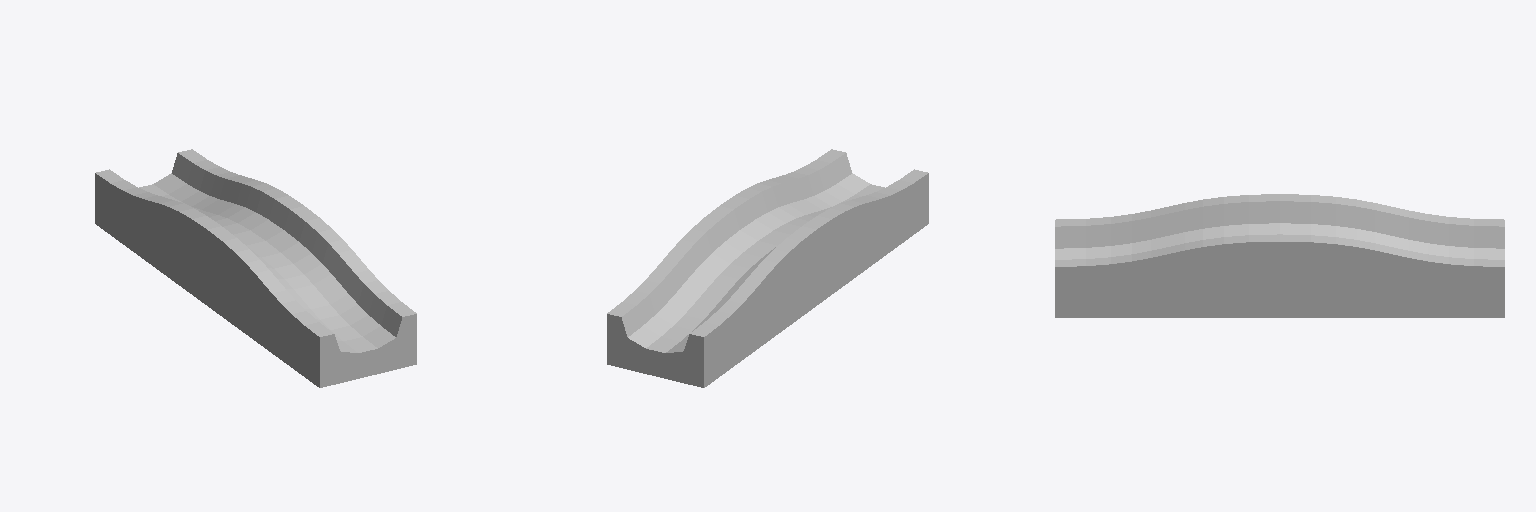
File: bump-solid-a.obj
The picture shows the model from 3 angles: view 1: azimuth 30°, elevation 25°; view 2: azimuth 150°, elevation 25°; view 3: azimuth 270°, elevation 25°; orthographic projection.
Visible parts, largest first — view 1: bump-solid-a; view 2: bump-solid-a; view 3: bump-solid-a.
Part boxes in pixels (x1,y1,x2,y2): bump-solid-a: (95, 149, 416, 387); bump-solid-a: (607, 149, 928, 387); bump-solid-a: (1055, 194, 1504, 317).
Bounding box in the file's own units: 1 × 0.75 × 4.